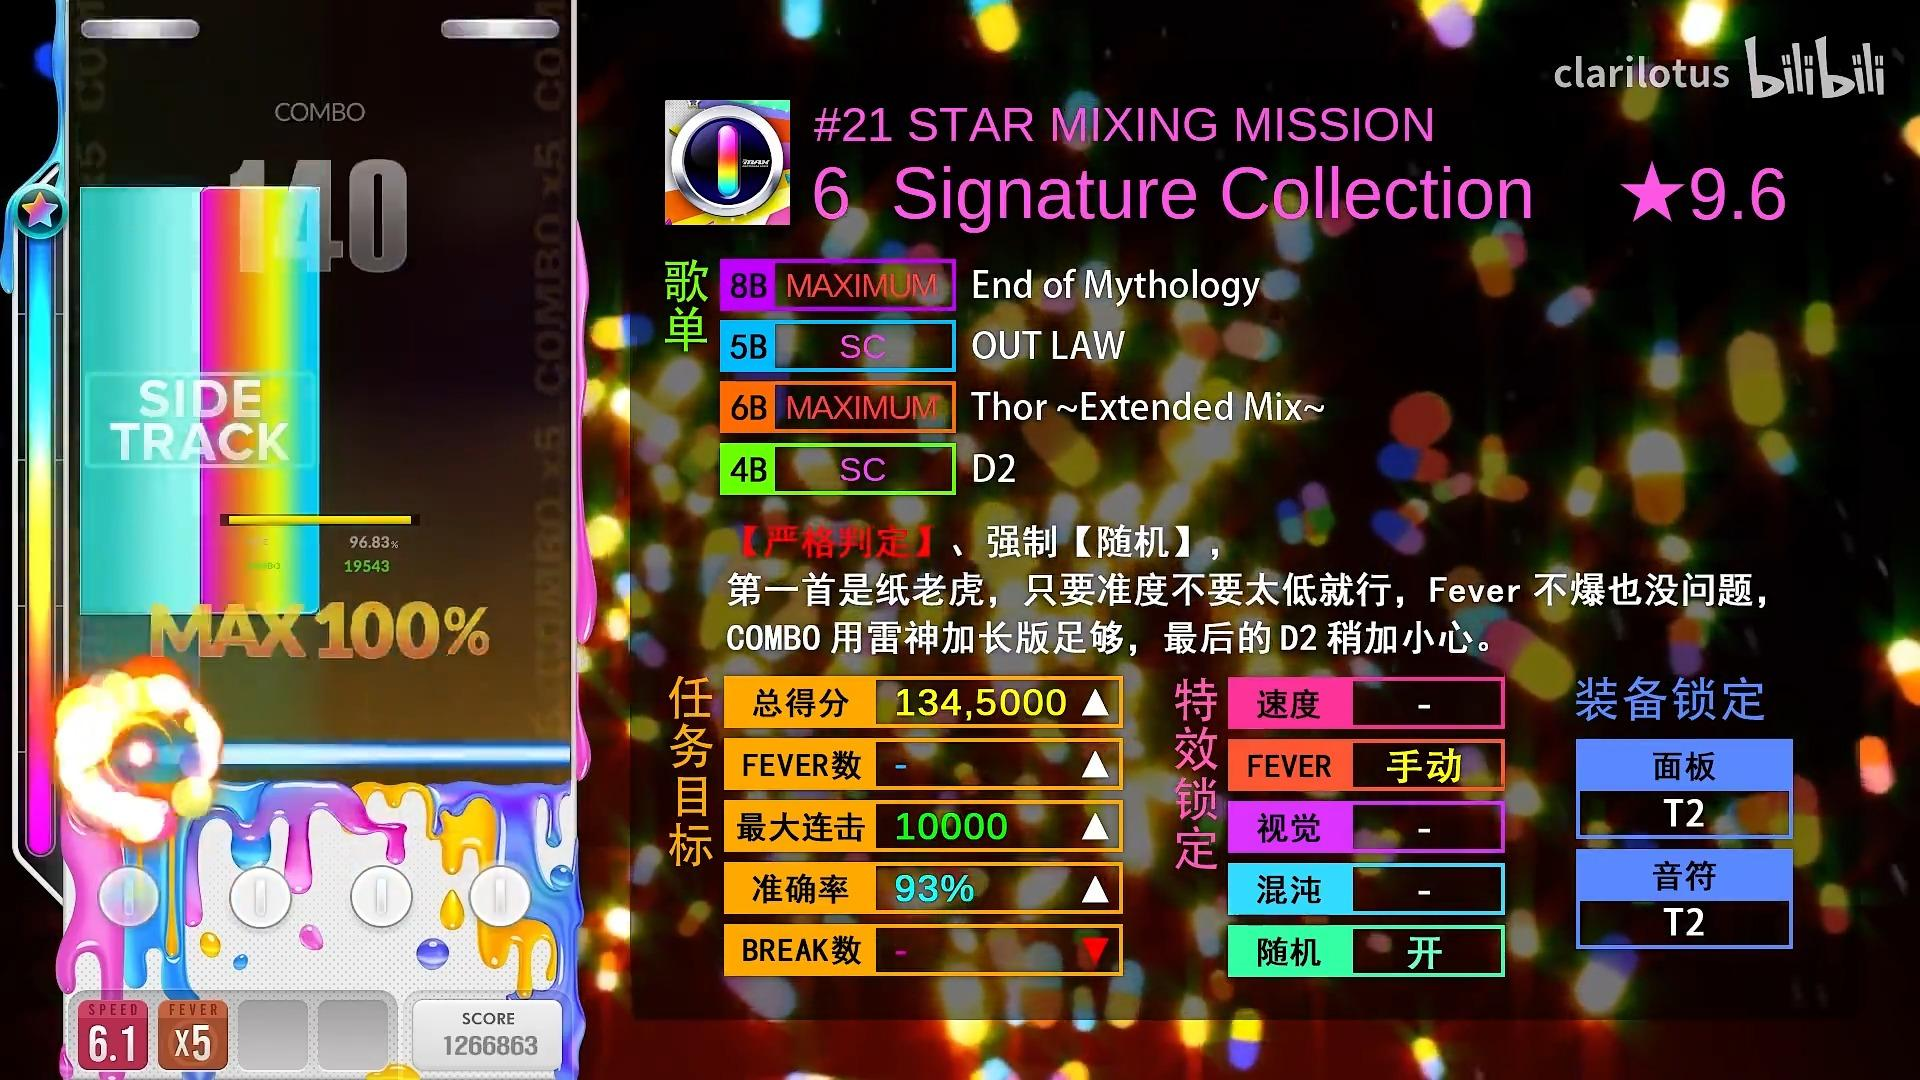hold-end: (200, 186, 320, 208)
hold-start: (199, 589, 319, 616)
note: (440, 20, 560, 40), (82, 20, 199, 40)
side-end: (79, 186, 320, 208)
side-start: (78, 589, 320, 616)
